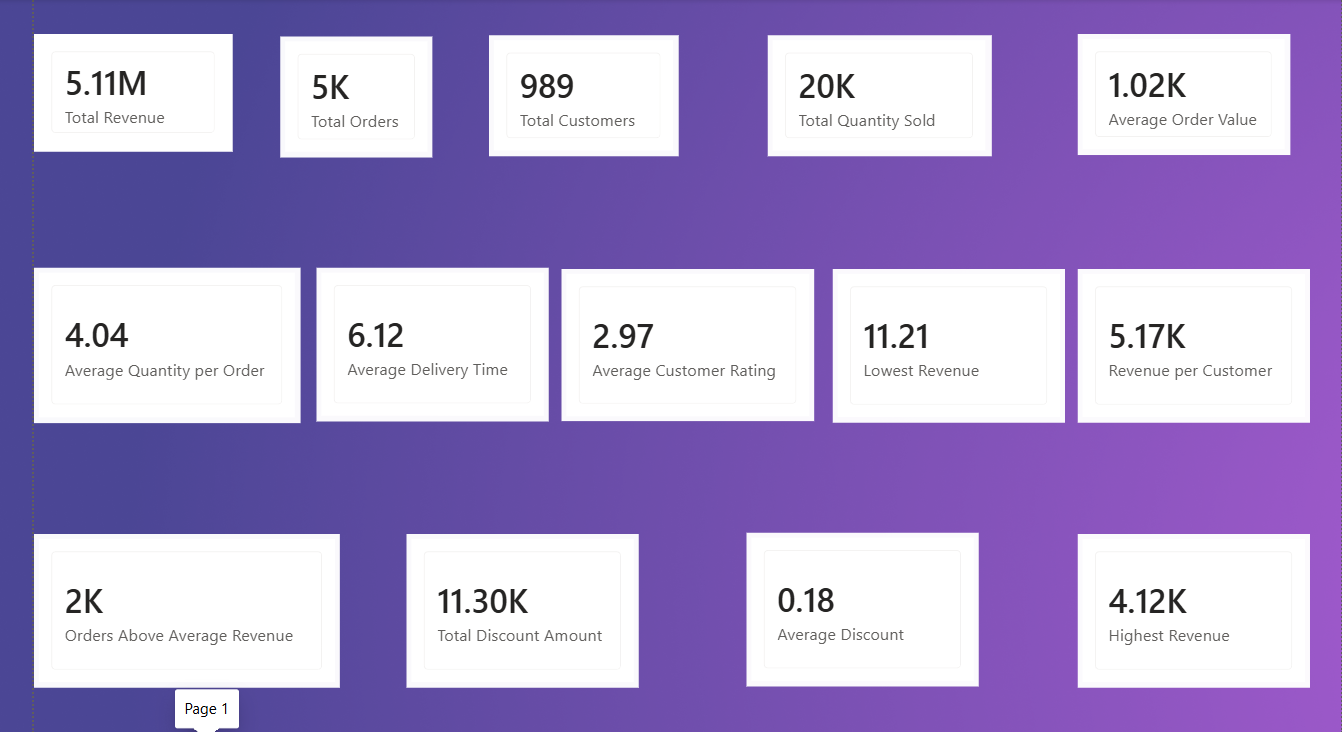

The page's visual inventory and layout, read from the dashboard file:
{"tool":"powerbi","page":{"name":"Page 1","canvas":[1280,720],"ordinal":0},"visuals":[{"type":"cardVisual","fields":{"Data":["Dax_measures.Total Revenue"]},"box":[0,34.2,194.4,114.9],"z":0},{"type":"cardVisual","fields":{"Data":["Dax_measures.Total Orders"]},"box":[240.9,36.7,149.2,118.6],"z":1000},{"type":"cardVisual","fields":{"Data":["Dax_measures.Total Customers"]},"box":[445.1,35.5,185.9,118.6],"z":2000},{"type":"cardVisual","fields":{"Data":["Dax_measures.Average Order Value"]},"box":[1021.1,34.2,207.9,118.6],"z":3000},{"type":"cardVisual","fields":{"Data":["Dax_measures.Total Quantity Sold"]},"box":[717.8,35.5,218.9,118.6],"z":4000},{"type":"cardVisual","fields":{"Data":["Dax_measures.Average Discount"]},"box":[697,522.1,227.4,150],"z":5000},{"type":"cardVisual","fields":{"Data":["Dax_measures.Average Customer Rating"]},"box":[516,264.1,247,149.2],"z":6000},{"type":"cardVisual","fields":{"Data":["Dax_measures.Average Delivery Time"]},"box":[276.4,262.9,227.4,150],"z":7000},{"type":"cardVisual","fields":{"Data":["Dax_measures.Revenue per Customer"]},"box":[1021.1,264.1,227.4,150],"z":8000},{"type":"cardVisual","fields":{"Data":["Dax_measures.Average Quantity per Order"]},"box":[0,262.9,260.5,151.6],"z":9000},{"type":"cardVisual","fields":{"Data":["Dax_measures.Total Discount Amount"]},"box":[364.4,523.4,227.4,150],"z":10000},{"type":"cardVisual","fields":{"Data":["Dax_measures.Highest Revenue"]},"box":[1021.1,523.4,227.4,150],"z":11000},{"type":"cardVisual","fields":{"Data":["Dax_measures.Lowest Revenue"]},"box":[781.4,264.1,227.4,150],"z":12000},{"type":"cardVisual","fields":{"Data":["Dax_measures.Orders Above Average Revenue"]},"box":[0,523.4,299.6,150.4],"z":13000}]}

Visuals, with their boxes in screenshot pixels (x1, y1, x2, y2):
cardVisual - Dax_measures.Total Revenue: [28, 25, 230, 144]
cardVisual - Dax_measures.Total Orders: [278, 28, 433, 151]
cardVisual - Dax_measures.Total Customers: [490, 26, 682, 149]
cardVisual - Dax_measures.Average Order Value: [1087, 25, 1303, 148]
cardVisual - Dax_measures.Total Quantity Sold: [772, 26, 1000, 149]
cardVisual - Dax_measures.Average Discount: [751, 531, 987, 687]
cardVisual - Dax_measures.Average Customer Rating: [563, 263, 819, 418]
cardVisual - Dax_measures.Average Delivery Time: [315, 262, 551, 418]
cardVisual - Dax_measures.Revenue per Customer: [1087, 263, 1323, 419]
cardVisual - Dax_measures.Average Quantity per Order: [28, 262, 298, 419]
cardVisual - Dax_measures.Total Discount Amount: [406, 532, 642, 688]
cardVisual - Dax_measures.Highest Revenue: [1087, 532, 1323, 688]
cardVisual - Dax_measures.Lowest Revenue: [838, 263, 1074, 419]
cardVisual - Dax_measures.Orders Above Average Revenue: [28, 532, 339, 688]
